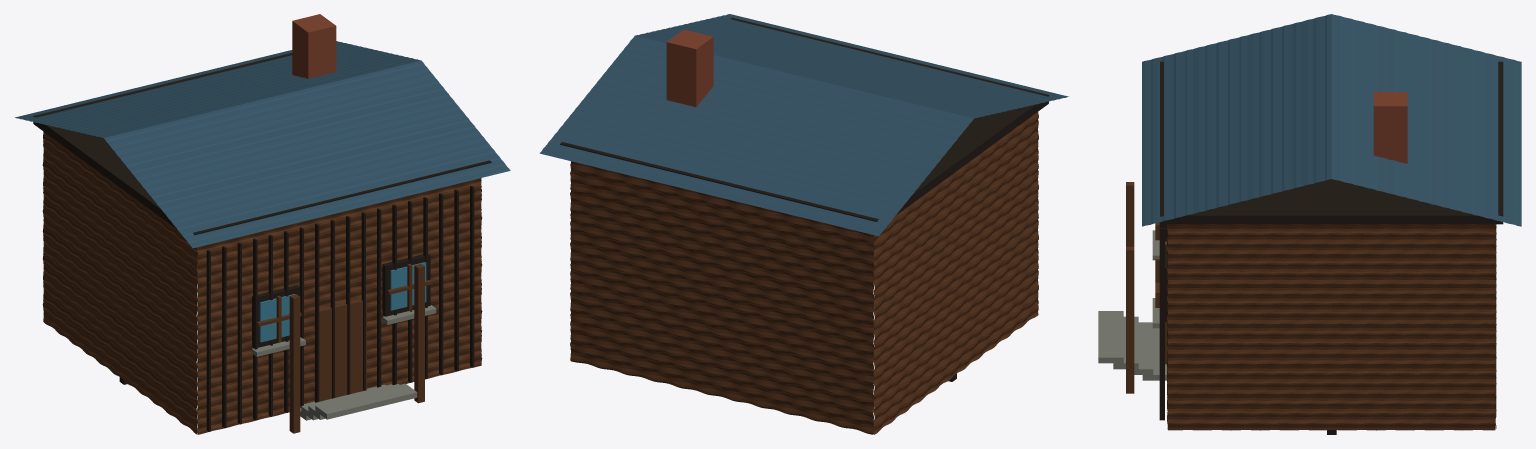
File: harbor_net_loft.obj
3 views of the same model, side by side, from view 1: azimuth 30°, elevation 25°; view 2: azimuth 150°, elevation 25°; view 3: azimuth 270°, elevation 25° (orthographic). The views are drawn at different scales.
Parts seen in each view (by area): view 1: harbor_net_loft; view 2: harbor_net_loft; view 3: harbor_net_loft.
Boxes of the visible parts, left/top/right/bottom form: harbor_net_loft: left=15, top=14, right=510, bottom=434; harbor_net_loft: left=539, top=14, right=1068, bottom=434; harbor_net_loft: left=1098, top=14, right=1521, bottom=434.
Size of the model in its own units: 7.39 by 6.36 by 8.02.
